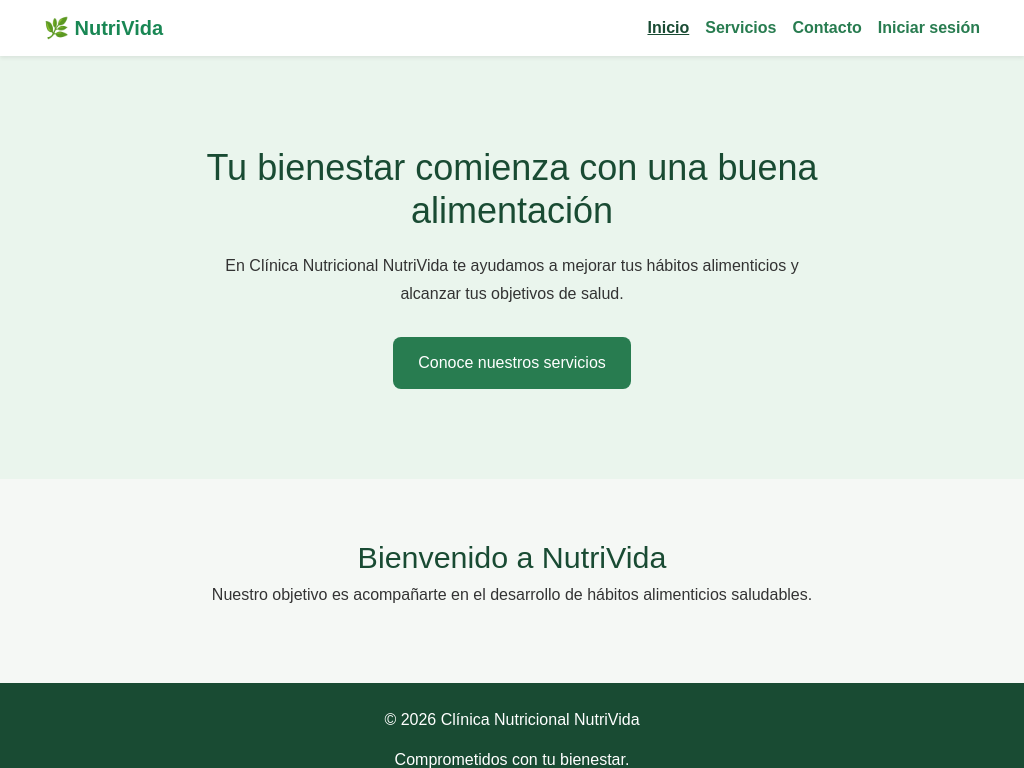
Pruebas de integración de NutriVida › Debe permitir navegar desde Inicio a Servicios
This screenshot has width=1024, height=768.
Click the link "Conoce nuestros servicios".
click(512, 363)  # box [393, 337, 631, 389]
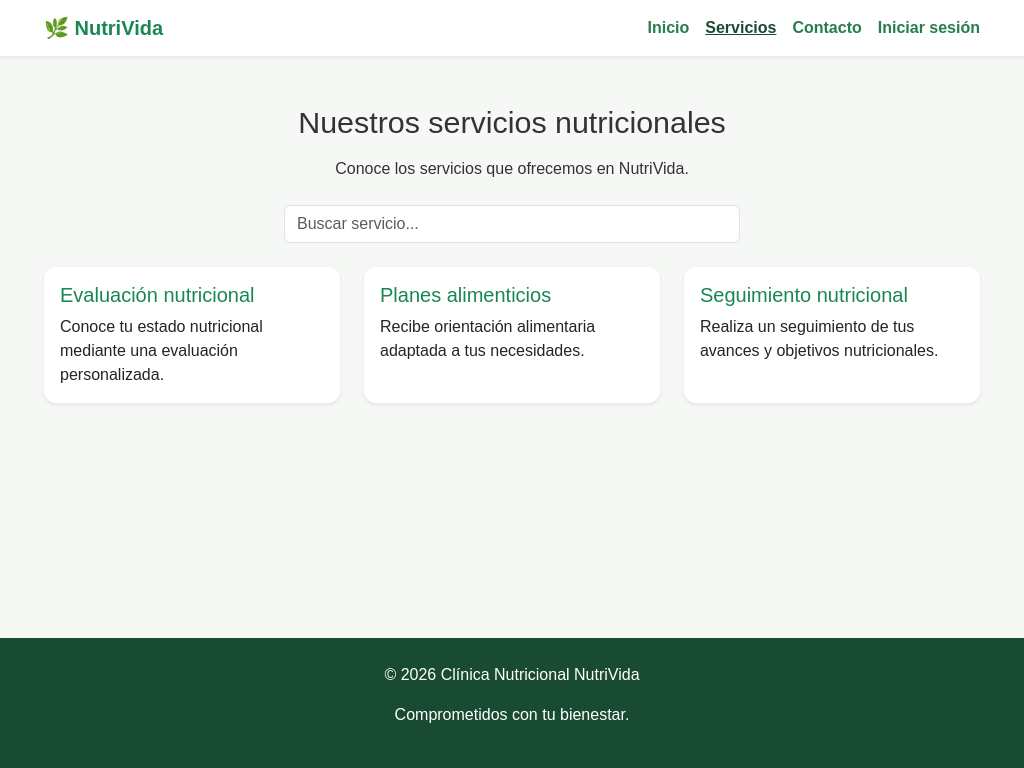
Expected: the heading "Nuestros servicios nutricionales" is shown, [298, 105, 726, 139]
